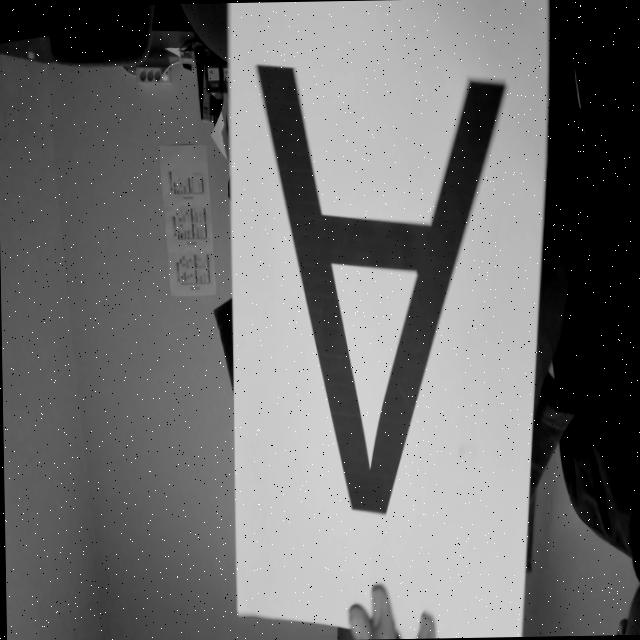a: (239, 36, 524, 546)
